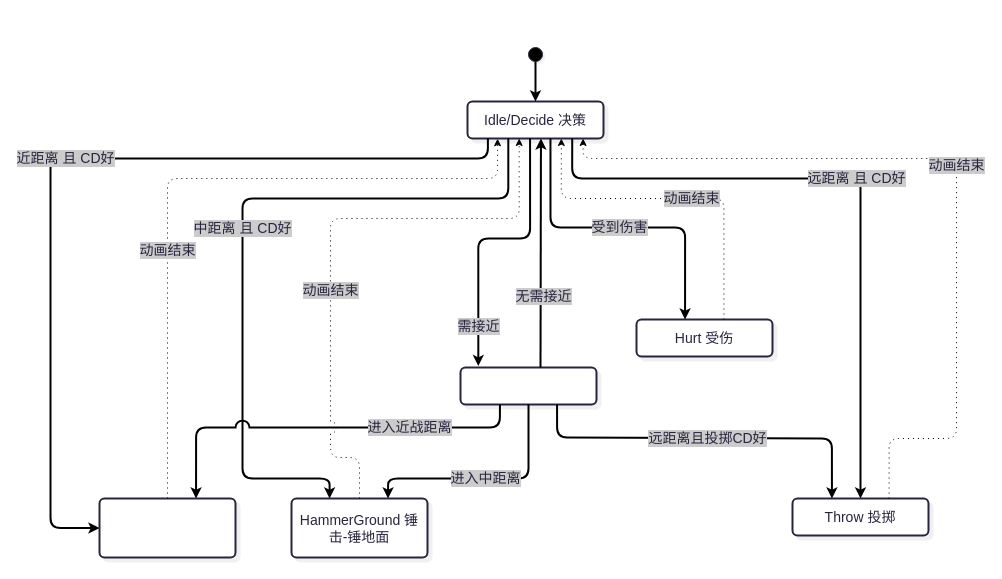
Image size: 1002x579. Some labels were removed from this diagram. The shapes that lost their labels are listed below. From the top down, each one's centre as x and y in pixels, then its label:
the point at 530,387: Walk 行走
the point at 169,529: HammerPlayer 锤击-锤玩家
